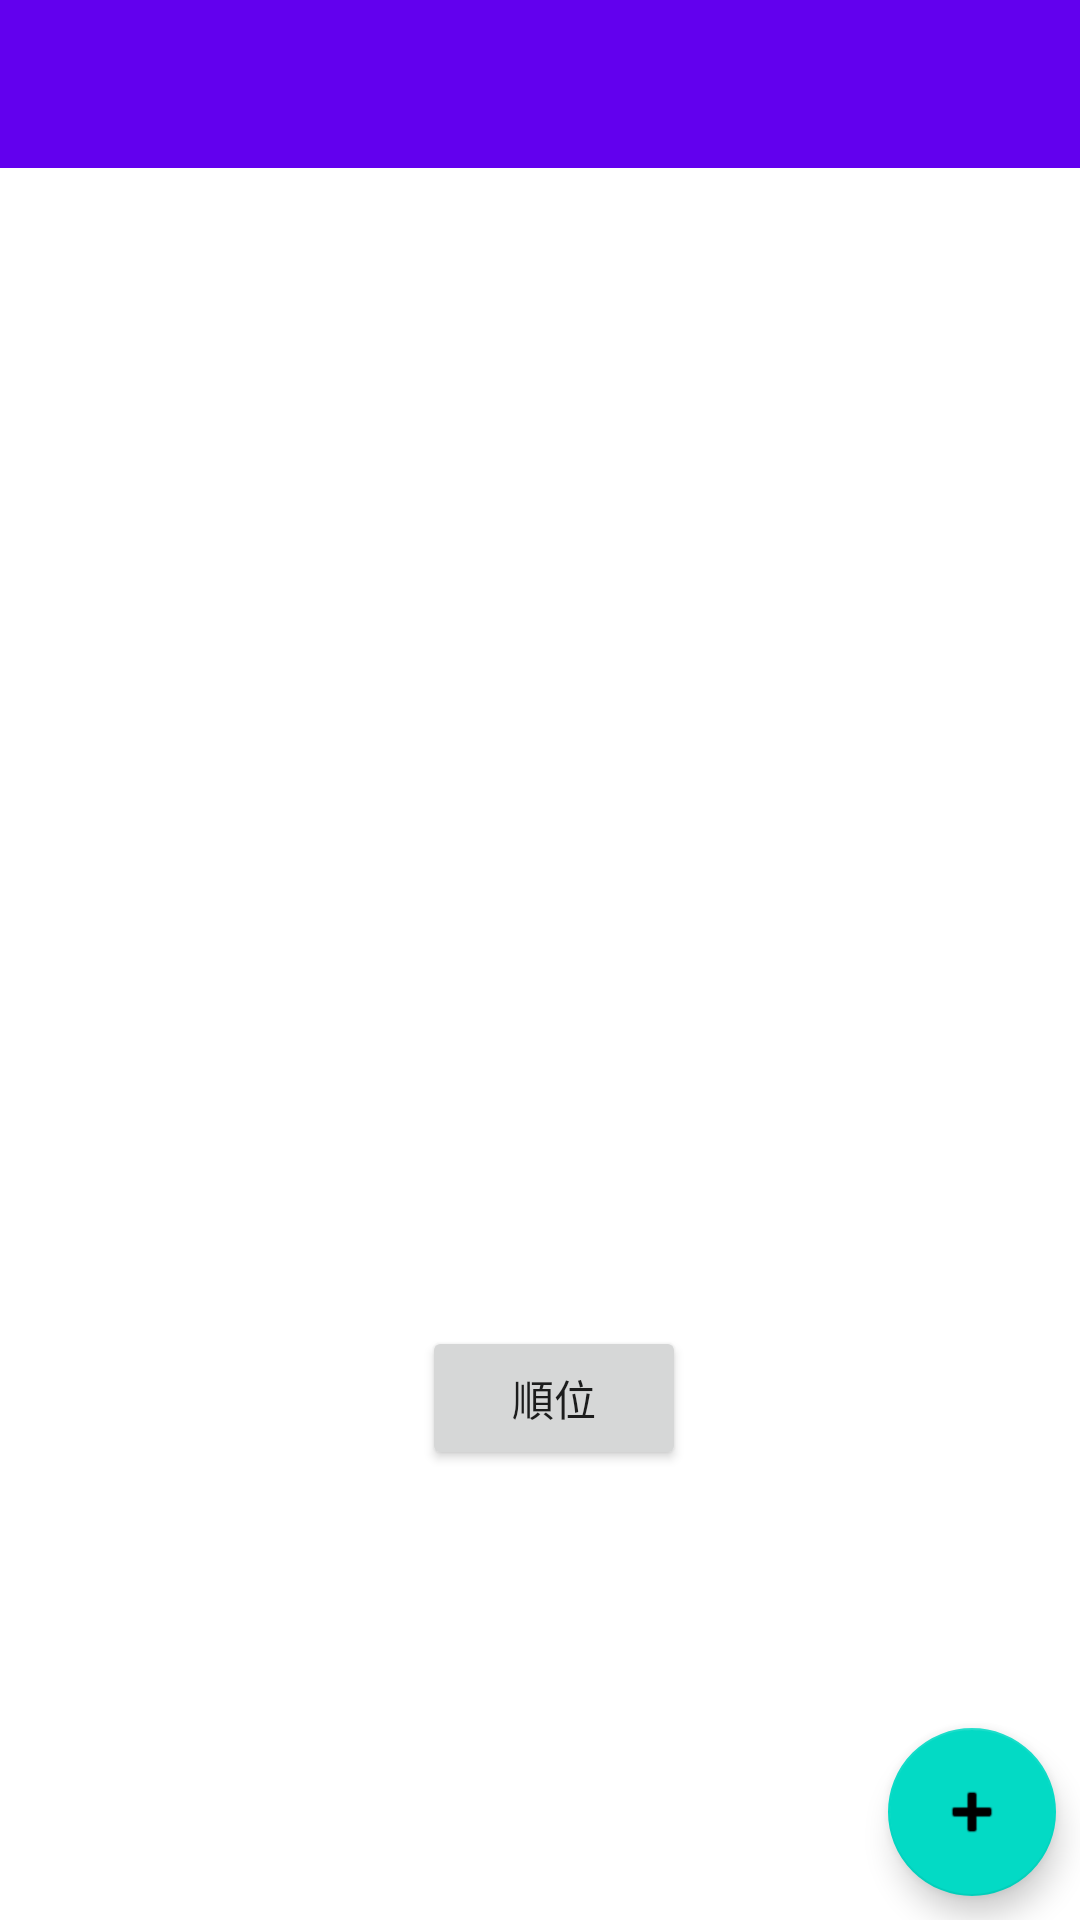

Point at icon controls on the screen. Image size 1080w x 1920h, points as (x=x, y=y).
add: (x=972, y=1812)
